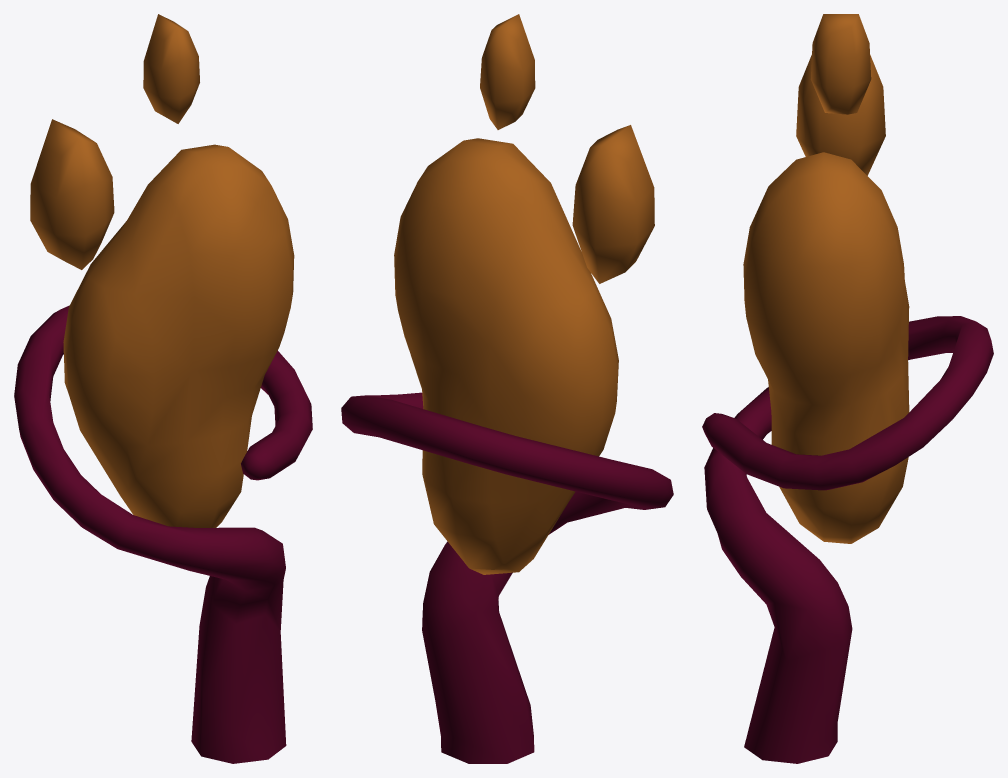
File: tree-lava-2.glb
3 views of the same model, side by side, from view 1: azimuth 30°, elevation 25°; view 2: azimuth 150°, elevation 25°; view 3: azimuth 270°, elevation 25° (orthographic). The views are drawn at different scales.
Visible parts, largest first — view 1: Tree_Lava_2; view 2: Tree_Lava_2; view 3: Tree_Lava_2.
Part boxes in pixels (x1,y1,x2,y2): Tree_Lava_2: (14, 14, 312, 763); Tree_Lava_2: (341, 14, 673, 763); Tree_Lava_2: (702, 14, 993, 763).
Size of the model in its own units: 1.23 by 3.08 by 1.15.
